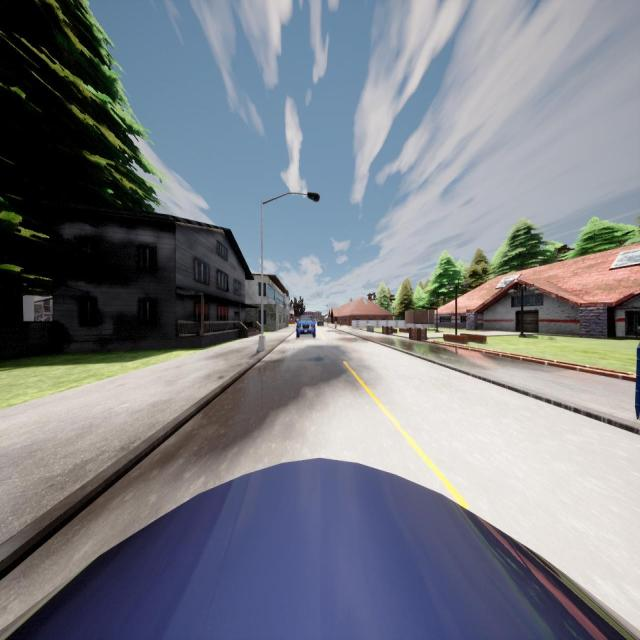Vehicle: (0, 458, 640, 640), (296, 315, 316, 337), (318, 318, 324, 326)
